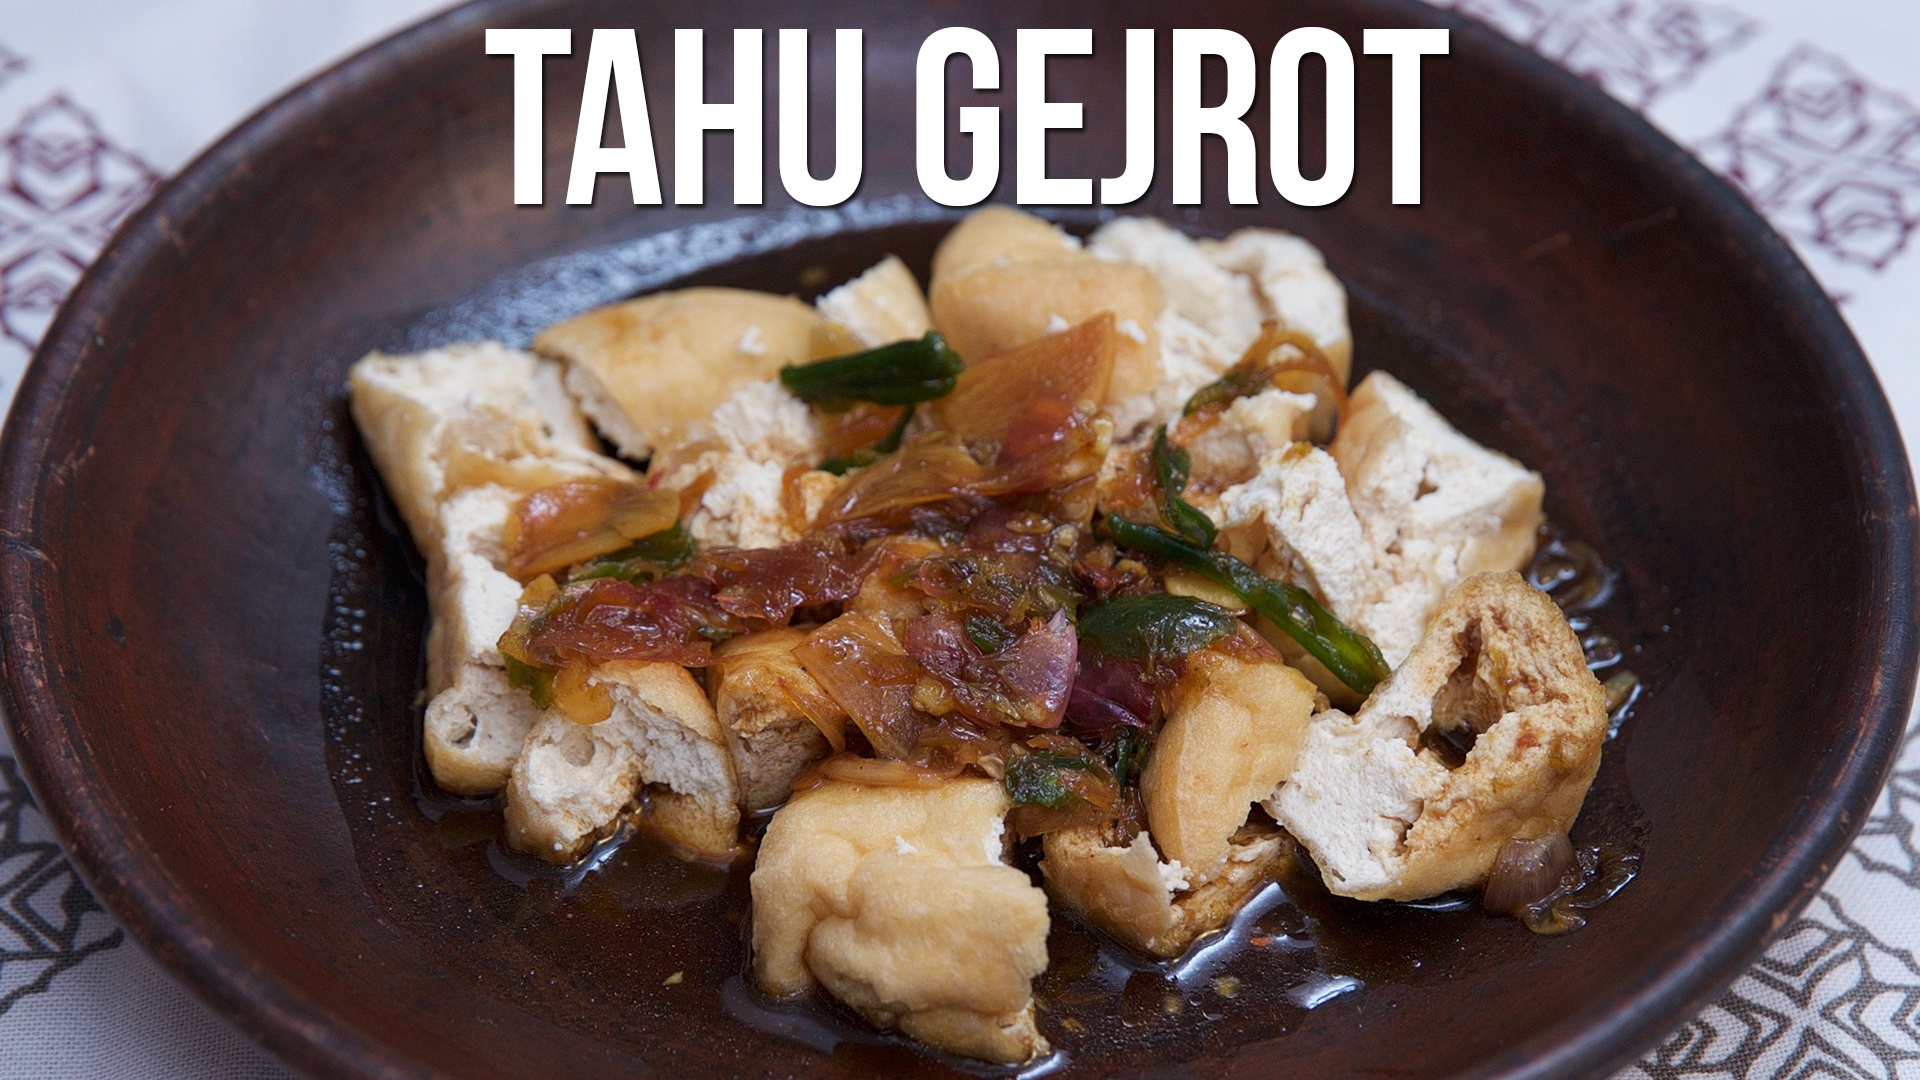tahu_gejrot: (342, 211, 1601, 1075)
